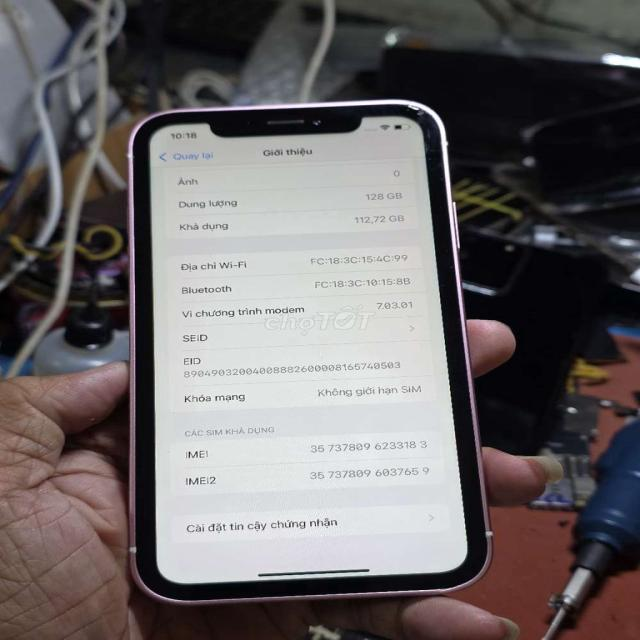gen_x_xs: (129, 100, 490, 604)
